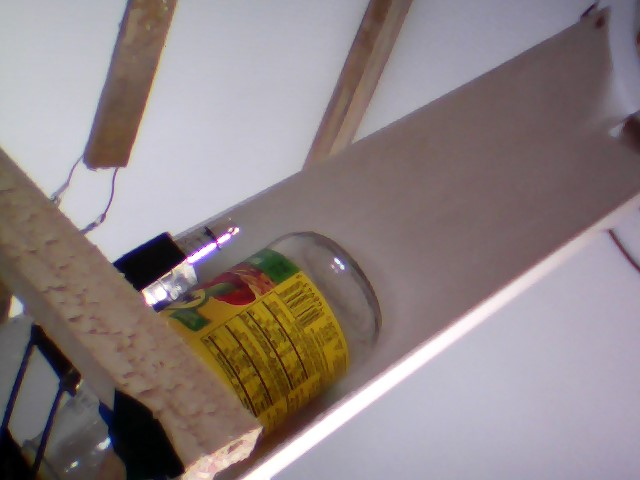vidrio: (177, 221, 392, 442)
